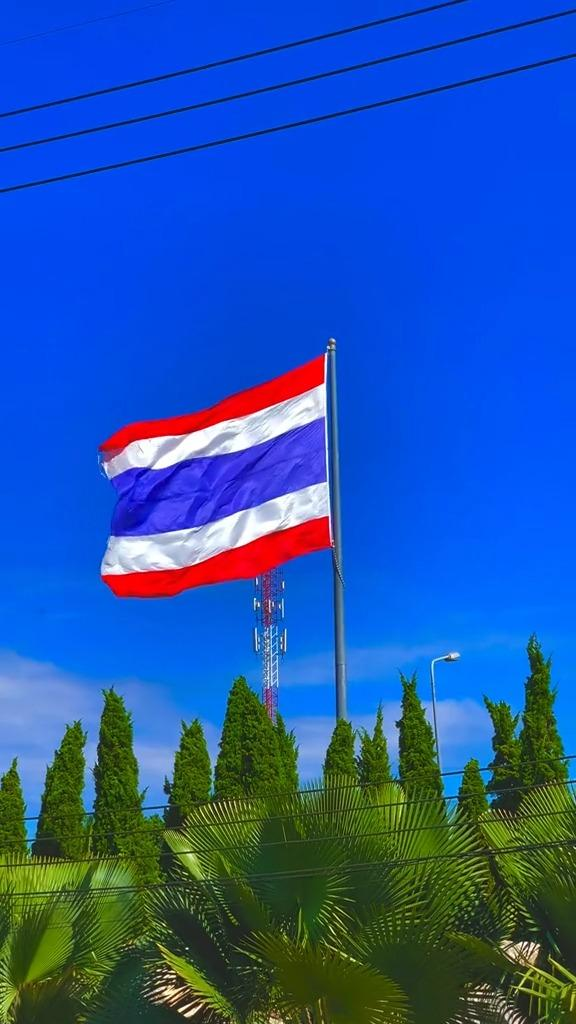Thailand: (98, 349, 329, 600)
